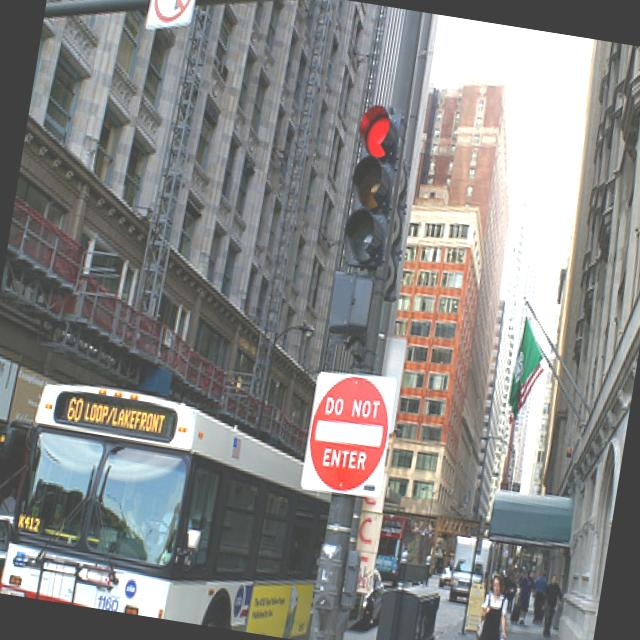Vehicle: (0, 379, 343, 640), (446, 534, 492, 606), (359, 568, 391, 631), (0, 505, 14, 593), (448, 568, 472, 602), (437, 564, 455, 592)
